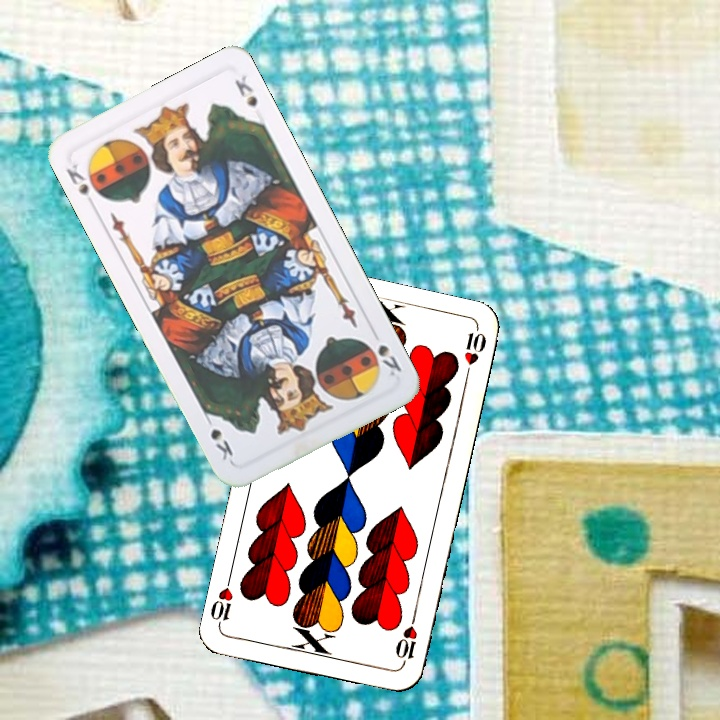H10: (391, 610, 420, 668)
SK: (62, 160, 106, 210), (367, 325, 404, 379)
